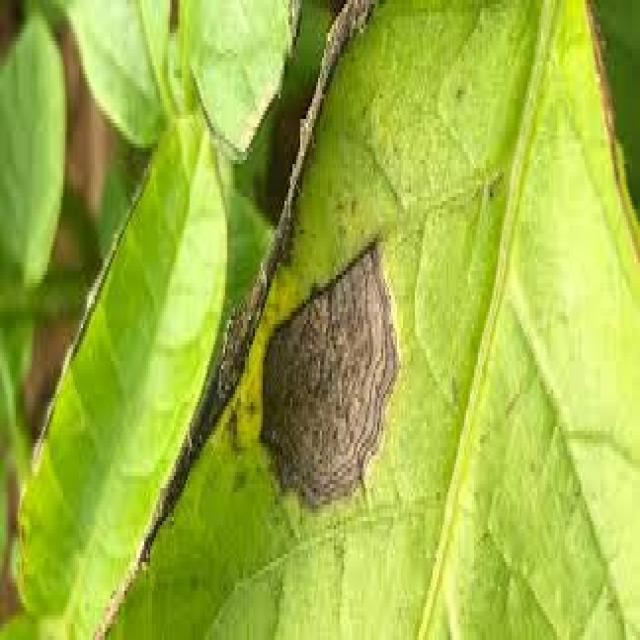earlyblight: (262, 247, 398, 505)
